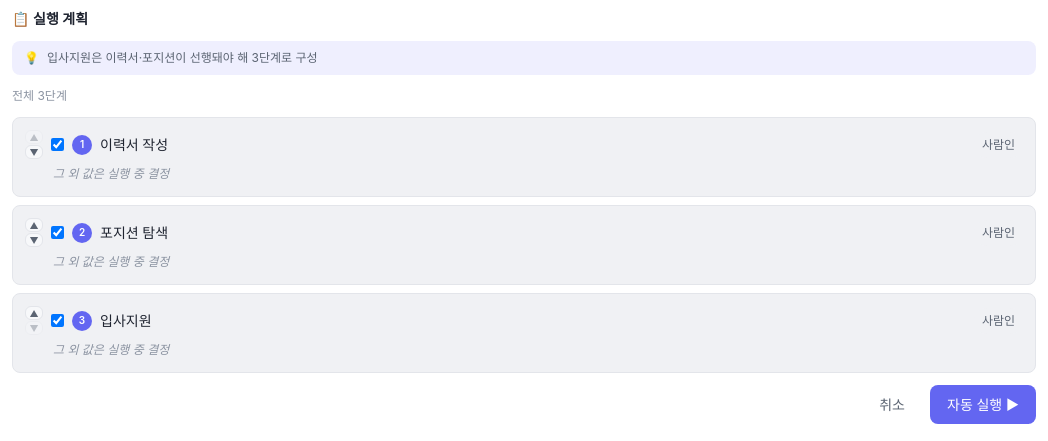
Scenario: PlanCard 편집 (스킵 + 순서변경) › 최소 1개 가드: 전부 스킵하면 [자동 실행] 비활성 + 안내
This screenshot has width=1048, height=441.
Click the checkbox named "이력서 작성 실행 포함" at coordinates (58, 144), box [51,138,64,151]
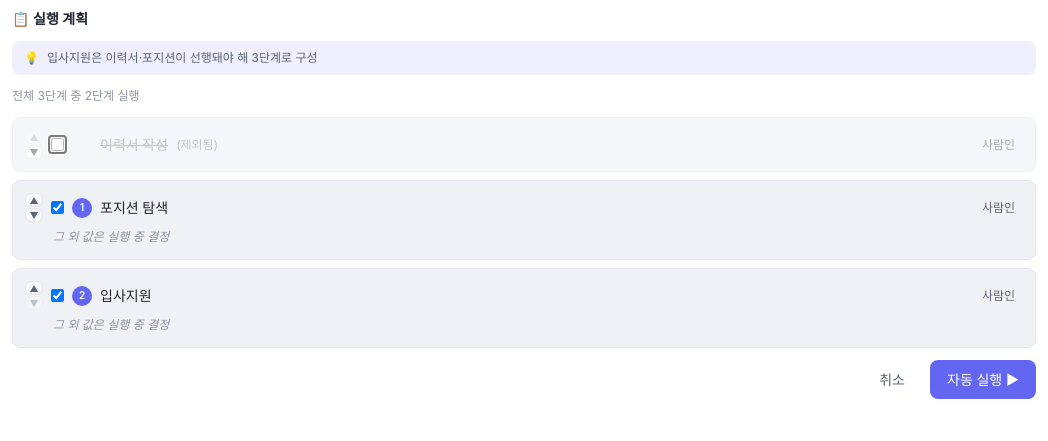
Click the checkbox named "포지션 탐색 실행 포함" at coordinates (58, 208), box [51,201,64,214]
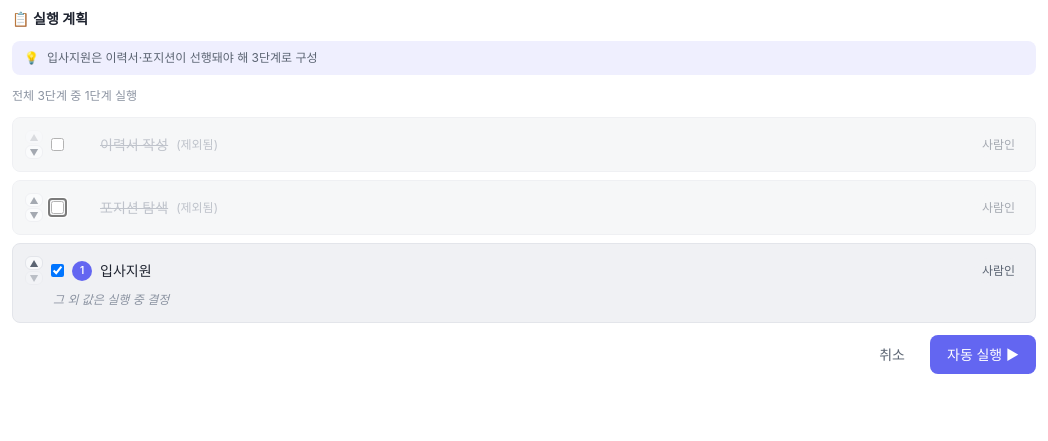
Click the checkbox named "입사지원 실행 포함" at coordinates (58, 270), box [51,264,64,277]
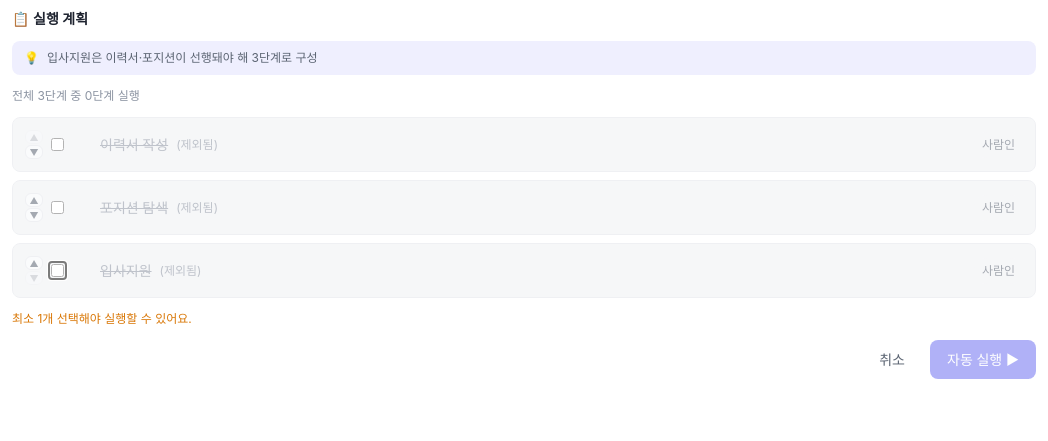
expect the button with aria-label "플랜 자동 실행" is disabled: met, box [930,340,1036,379]
expect the text "최소 1개 선택해야 실행할 수 있어요." is shown: met, box [12,311,192,326]
